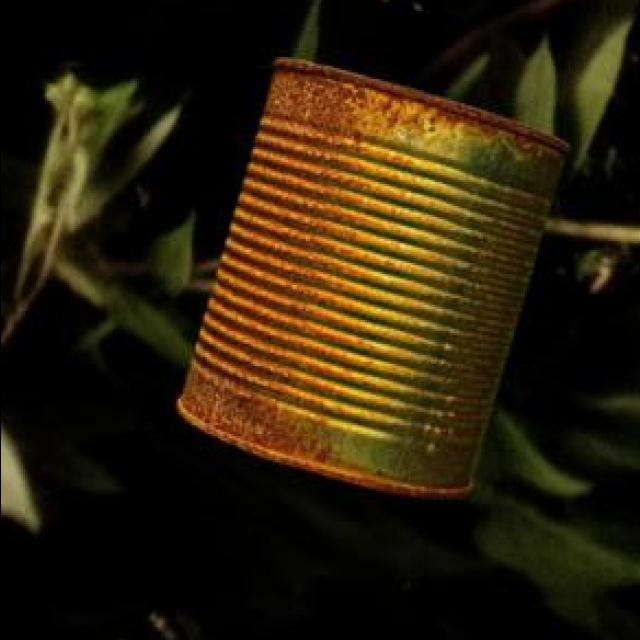logam: (172, 62, 564, 503)
